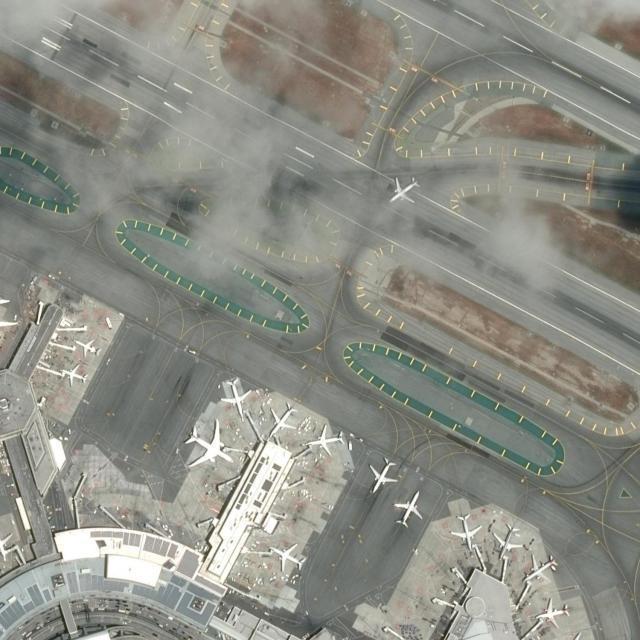Aircraft: (181, 420, 234, 469), (302, 423, 347, 457), (391, 490, 428, 530), (219, 374, 253, 416), (363, 455, 399, 493), (520, 554, 558, 589), (489, 521, 523, 560), (264, 402, 300, 438), (450, 510, 480, 548), (534, 597, 570, 628), (385, 176, 421, 206), (266, 543, 306, 570), (0, 288, 18, 340), (72, 335, 102, 358), (58, 363, 88, 385), (0, 523, 14, 558)
